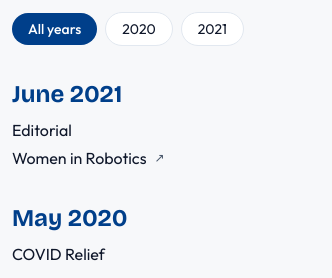
Test: ArchiveBrowser › filters to one year when its pill is clicked
This screenshot has width=332, height=278.
Click the button "2021".
click(212, 29)  # box [181, 12, 244, 46]
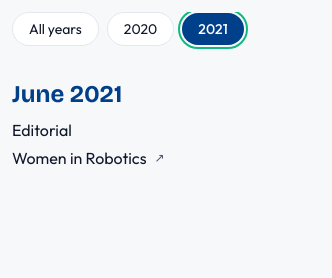
Check: the heading "June 2021" is shown, box [12, 80, 122, 108]
Check: the heading "May 2020" is gone
